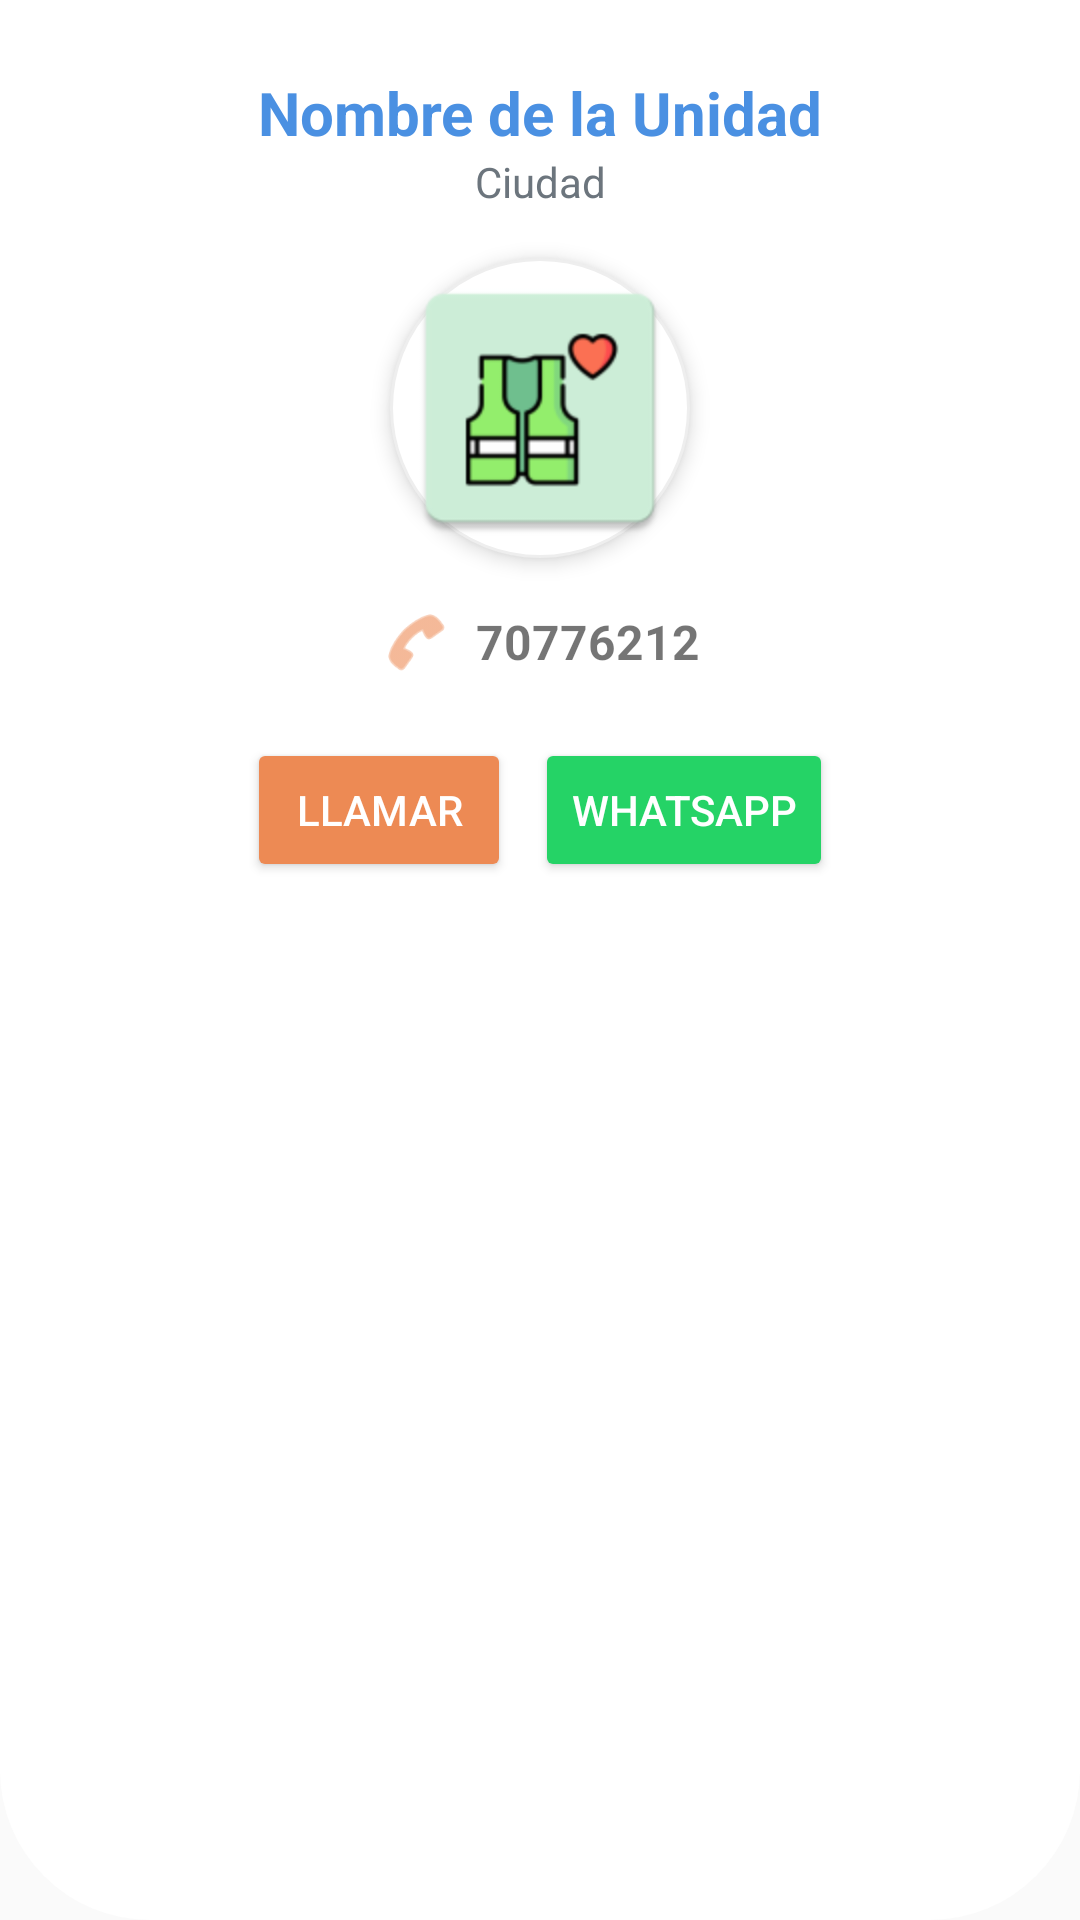

Named icons in this screenshot (1080x1920) and their centers, (x=x, y=y):
call: (x=416, y=642)
